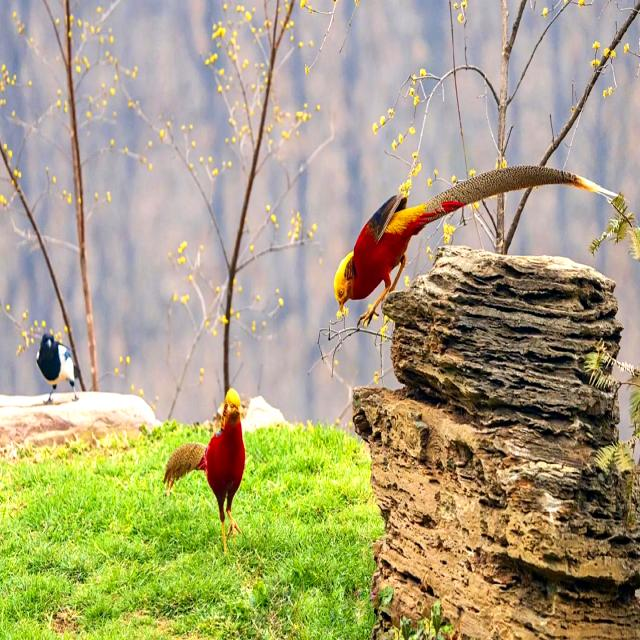Chrysolophus pictus feather: (420, 166, 620, 222), (163, 443, 207, 494)
